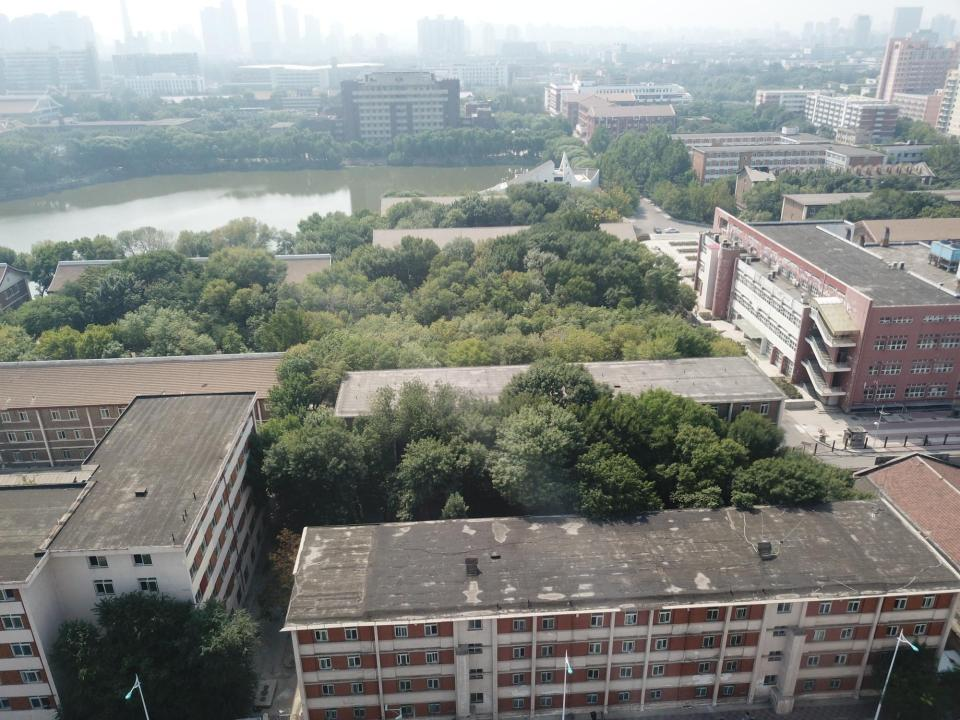car: (664, 228, 680, 233), (653, 226, 662, 234)
